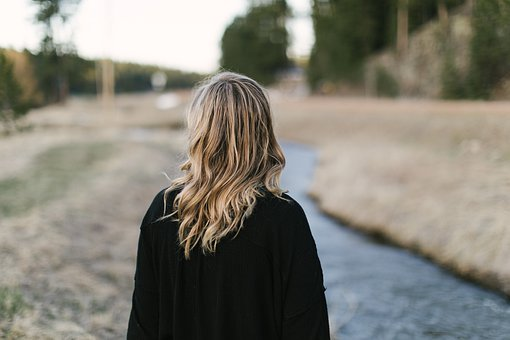person: (139, 78, 317, 337)
